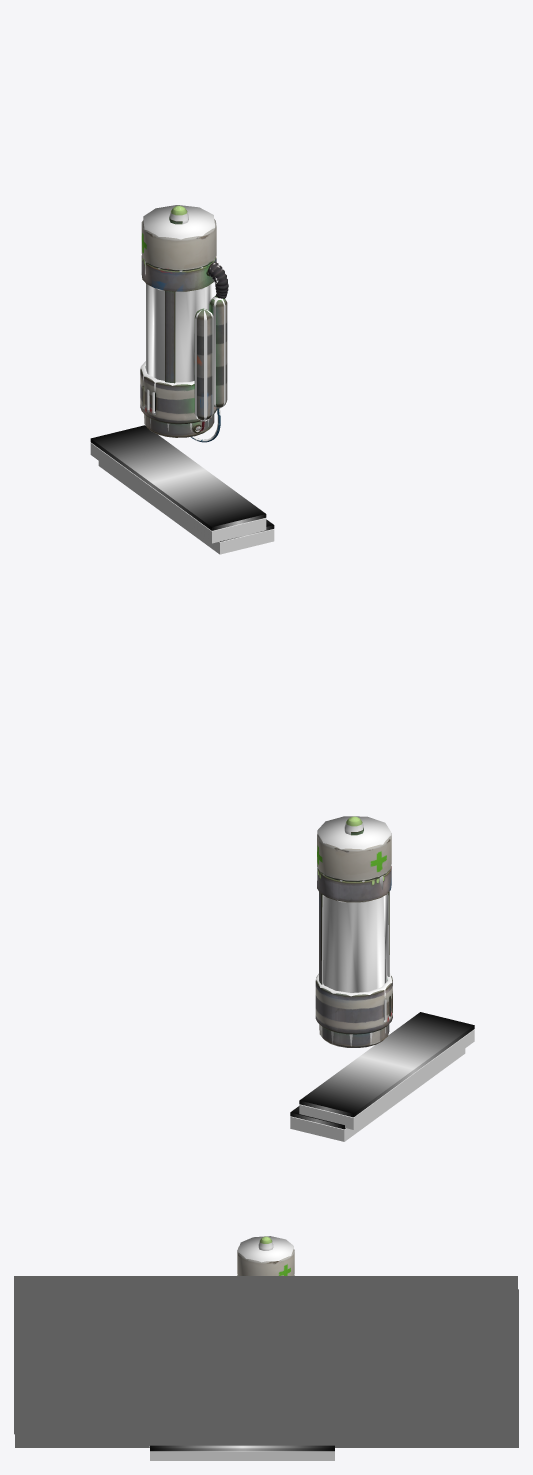
Rendered from Healthpack.glb.
3 renders of one model, top to bottom at view 1: azimuth 30°, elevation 25°; view 2: azimuth 150°, elevation 25°; view 3: azimuth 270°, elevation 25°, orthographic. The views are drawn at different scales.
Visible parts, largest first — view 1: HealthPackLOD0, Cube, Healthpack (×2), HealthPackLiquid, Cube (1) (×2); view 2: HealthPackLOD0, Cube, HealthPackLiquid, Cube (1) (×2), Healthpack; view 3: LightQuad (×2), Cube (1), Cube, HealthPackLOD0, Healthpack.
Boxes of the visible parts, left/top/right/bottom form: HealthPackLOD0: left=140, top=205, right=228, bottom=442; Cube: left=90, top=425, right=266, bottom=530; Healthpack (×2): left=140, top=205, right=225, bottom=441; HealthPackLiquid: left=146, top=283, right=212, bottom=382; Cube (1) (×2): left=90, top=443, right=274, bottom=554; HealthPackLOD0: left=315, top=816, right=392, bottom=1047; Cube: left=299, top=1012, right=474, bottom=1117; HealthPackLiquid: left=323, top=894, right=387, bottom=992; Cube (1) (×2): left=290, top=1029, right=474, bottom=1141; Healthpack: left=315, top=816, right=392, bottom=1046; LightQuad (×2): left=14, top=1276, right=518, bottom=1447; Cube (1): left=150, top=1451, right=334, bottom=1460; Cube: left=150, top=1445, right=334, bottom=1451; HealthPackLOD0: left=237, top=1236, right=294, bottom=1275; Healthpack: left=238, top=1236, right=293, bottom=1262.
Size of what is drawn, in the model's own units: 0.3181 by 0.4359 by 0.831.
Materials: 8 (4 with a texture image).
